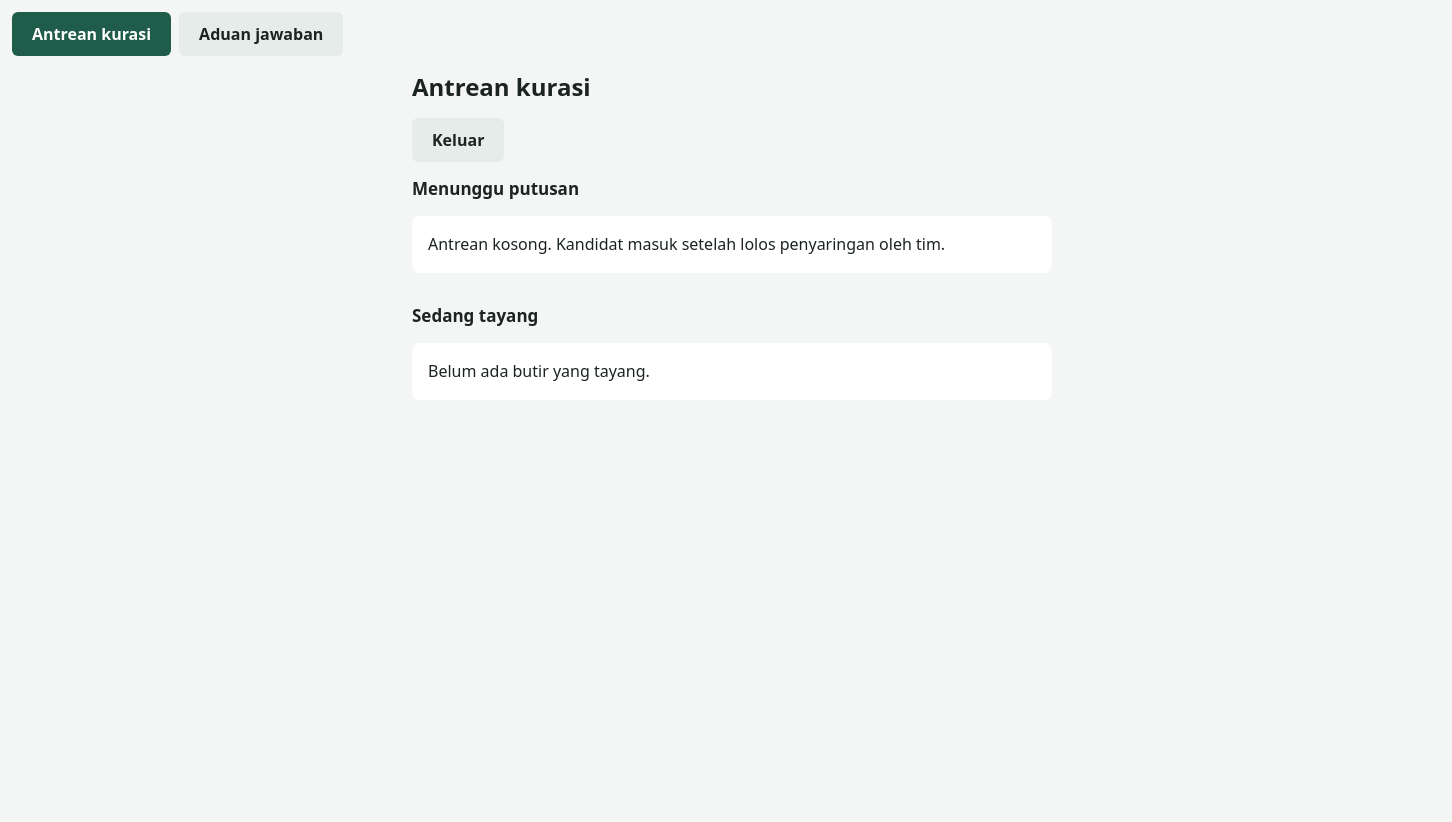
Test: cangkang kurator › dua tombol setara, tanpa navigasi pengguna; aduan dimuat saat dibuka
Expected: the heading "Antrean kurasi" is shown, [412,70,591,103]
Click the button "Aduan jawaban" at (261, 34), box [179,12,343,56]
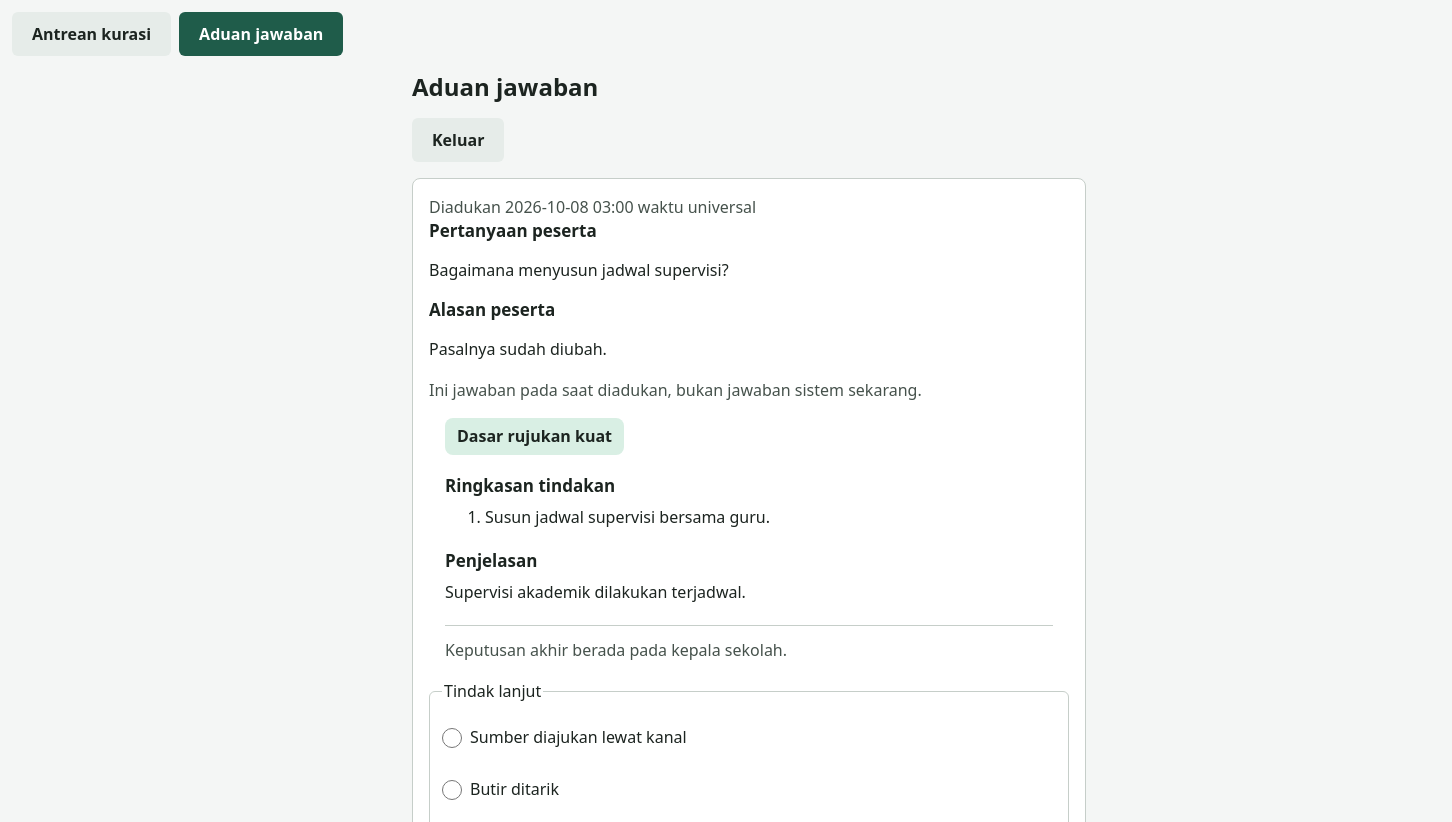
Expected: the button "Antrean kurasi" is shown, [12,12,171,56]
Expected: the heading "Aduan jawaban" is shown, [412,70,598,103]
